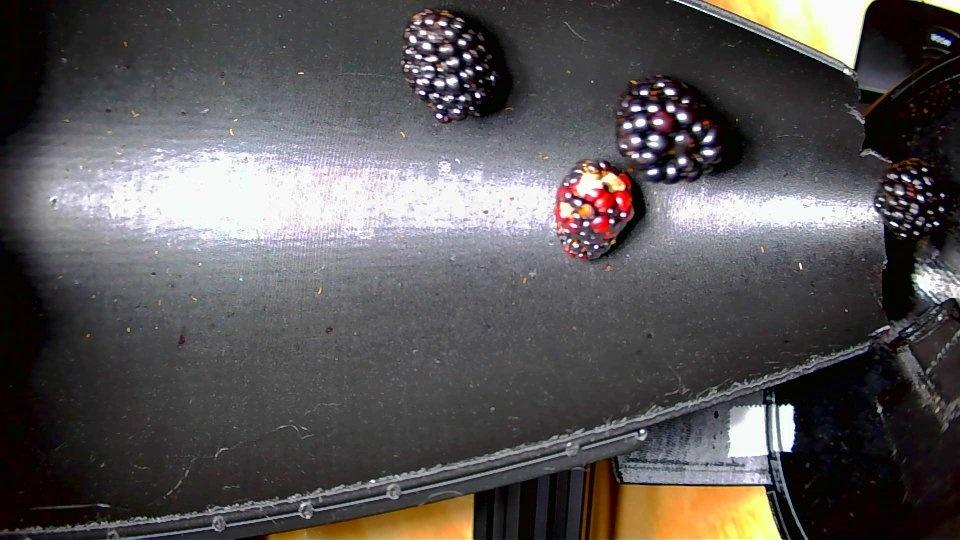berry: (617, 75, 720, 182), (401, 9, 498, 122), (555, 161, 633, 260), (875, 159, 947, 239)
